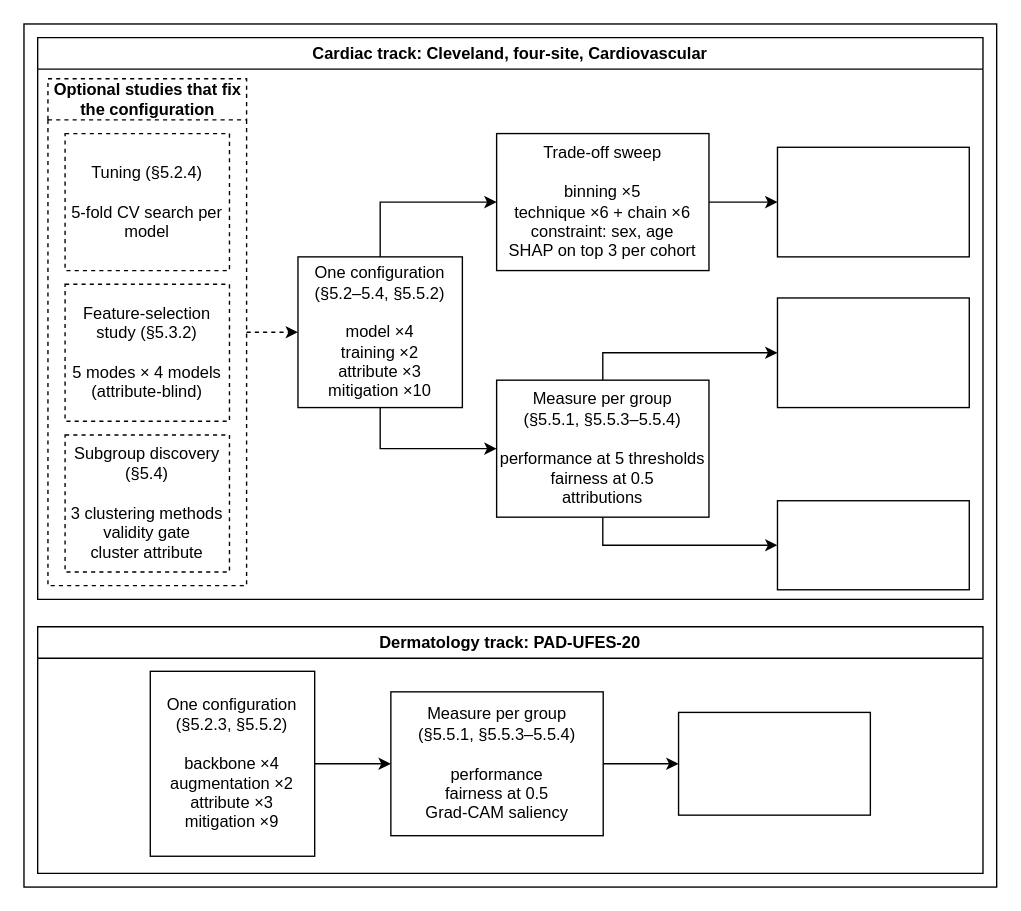
This 1021x911 diagram has some shape labels left out. Here are the shapes that lost their labels. From the top down, the centre of each, then its label:
At (872,201): "Trade-off frontier (§5.5.6) point estimates".
At (872,352): "Uncertainty (§5.5.5) bootstrap pairwise tests calibrated on null cohorts".
At (872,544): "Binning re-cut (§5.3.3) same predictions 25 schemes".
At (773,763): "Backbone check (§6.2.1, post hoc) paired bootstrap on AUC".
